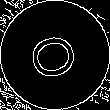O_E: (25, 27, 85, 83)
